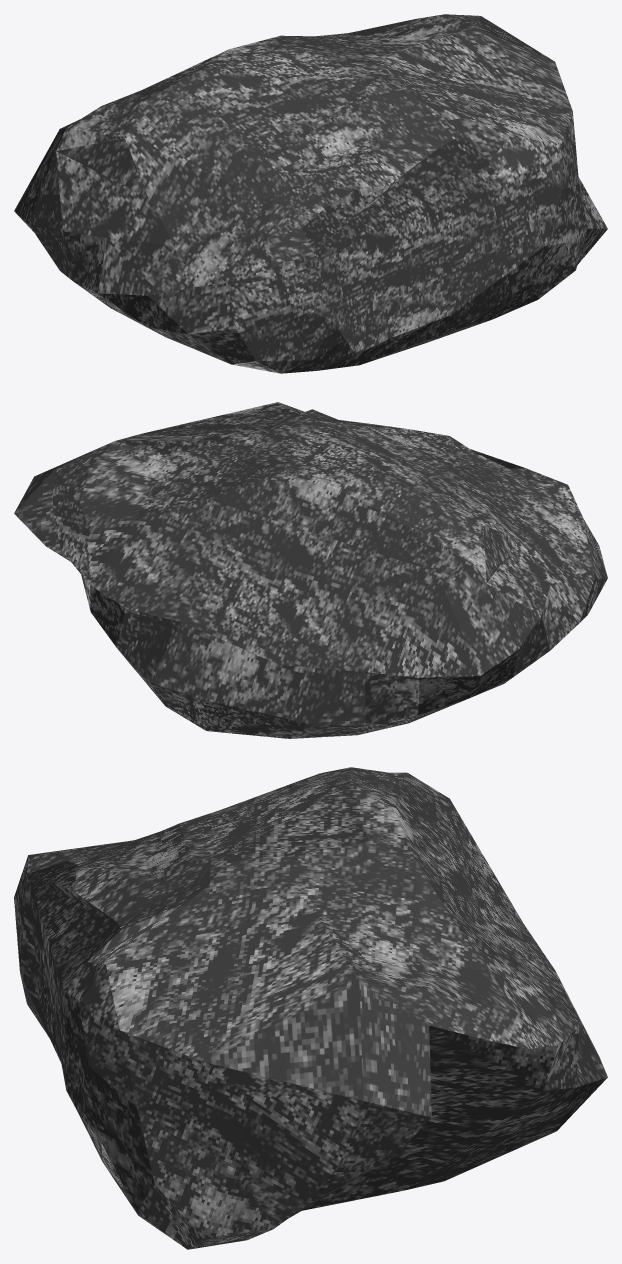
Rendered from stone3.glb.
The picture shows the model from 3 angles, top to bottom: view 1: azimuth 30°, elevation 25°; view 2: azimuth 150°, elevation 25°; view 3: azimuth 270°, elevation 25°; orthographic projection. The views are drawn at different scales.
Parts seen in each view (by area): view 1: Cube; view 2: Cube; view 3: Cube.
Boxes of the visible parts, bbox=[...] form: Cube: bbox=[14, 14, 607, 373]; Cube: bbox=[14, 402, 607, 738]; Cube: bbox=[14, 767, 607, 1249].
Size of the model in its own units: 1.93 by 0.8973 by 1.56.
Materials: 1 (1 with a texture image).
